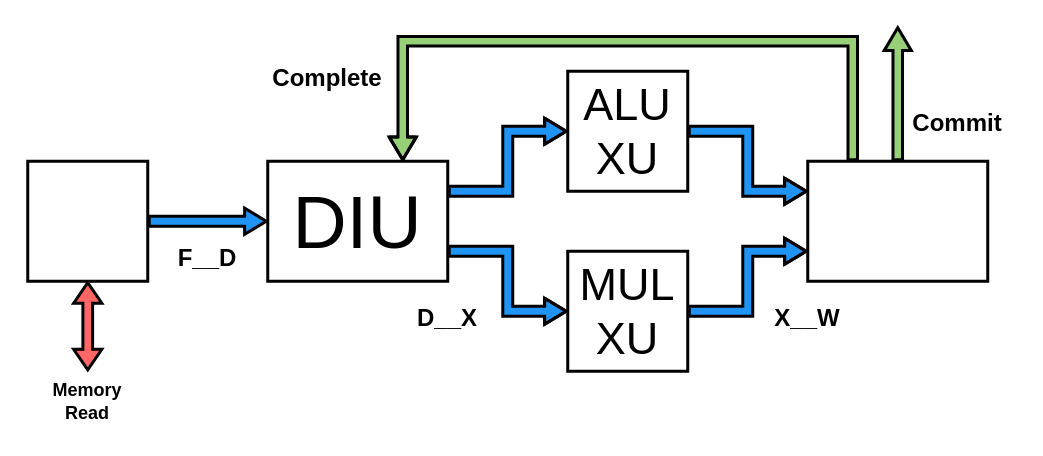
Image size: 1043x456. Some labels were removed from this diagram. Here are the shapes that lost their labels. From the top down, the box of each, then its label:
(26, 159, 148, 282): FU
(806, 159, 988, 282): WCU
